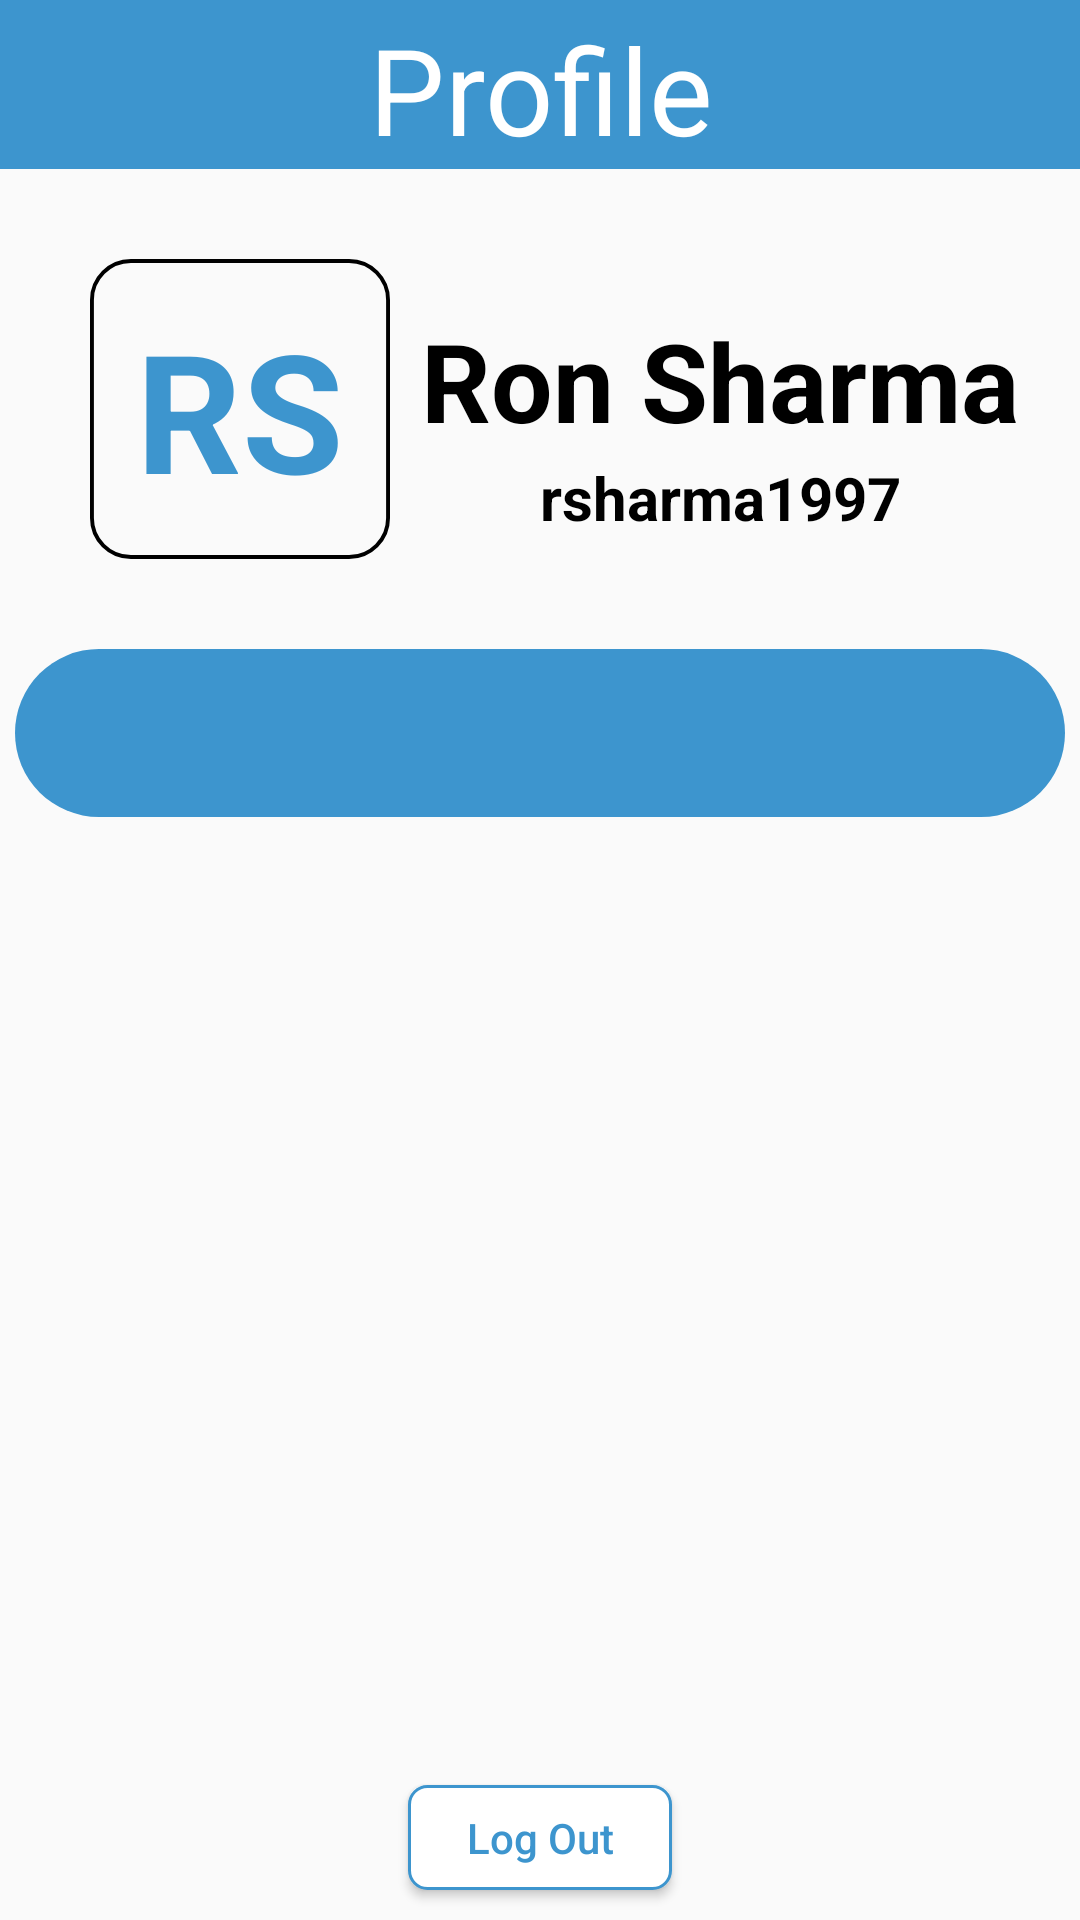

Where icons sit on this 1080 x 1920 app screen, as (x1, y1, x2, y2):
userbox: (90, 259, 390, 559)
